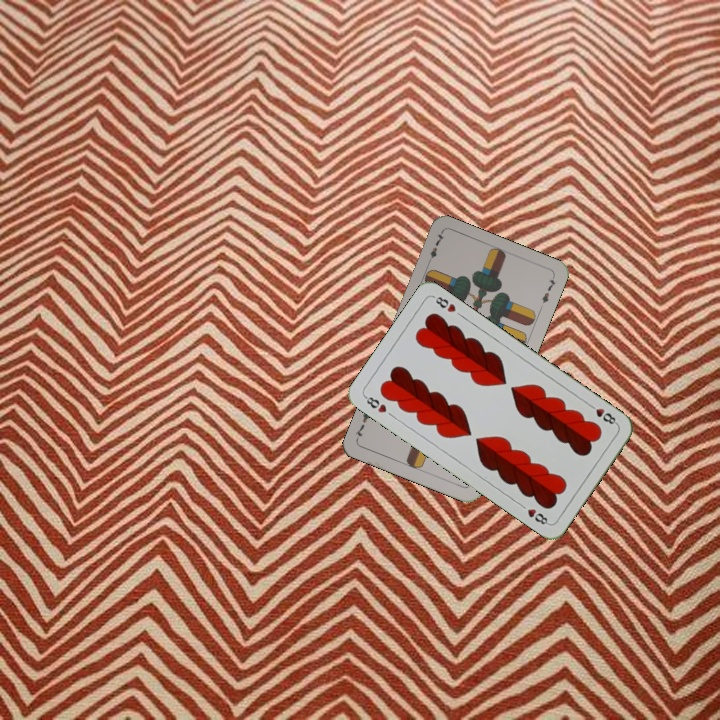E7: (424, 229, 447, 268)
H8: (584, 400, 620, 427), (360, 392, 389, 416)
